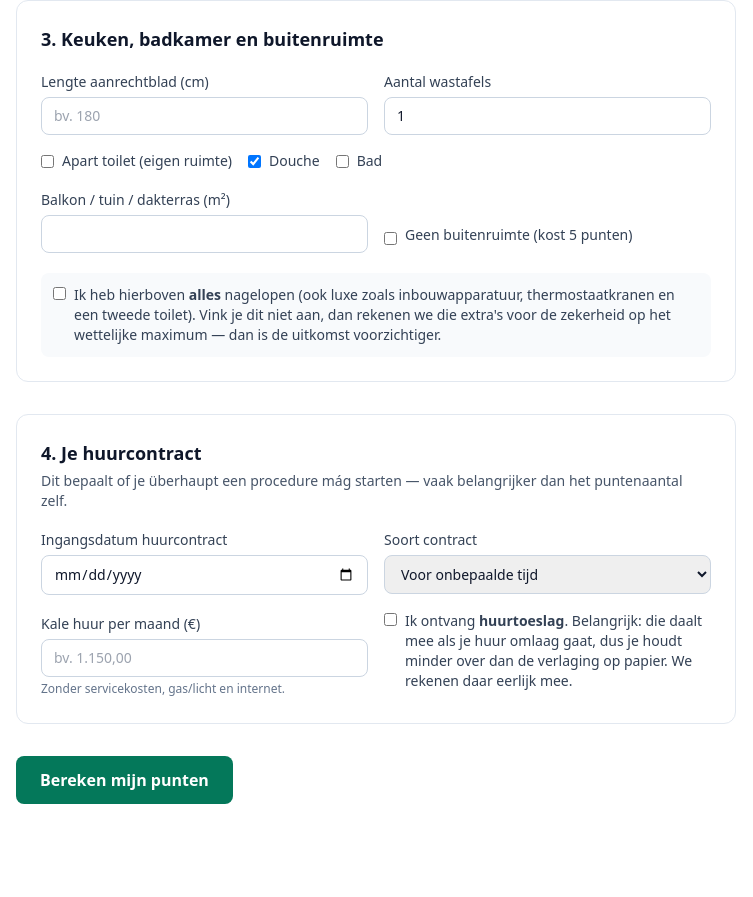
Test: HuurprijsCheckClient — validatie › vraagt om de huurprijs voordat er iets gerekend wordt
(page scrolled)
Click the button with test id "hp-submit". click: {"x": 124, "y": 780}
box: x1=16 y1=756 x2=233 y2=804
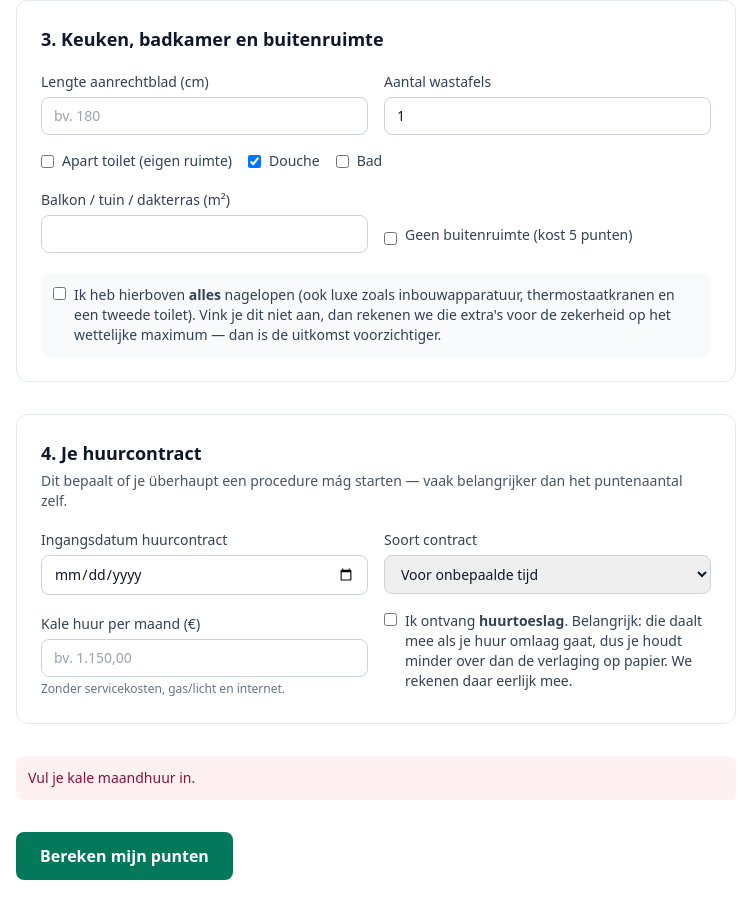
Expected: the text with test id "hp-fout" shows "kale maandhuur", x1=28 y1=768 x2=195 y2=787
